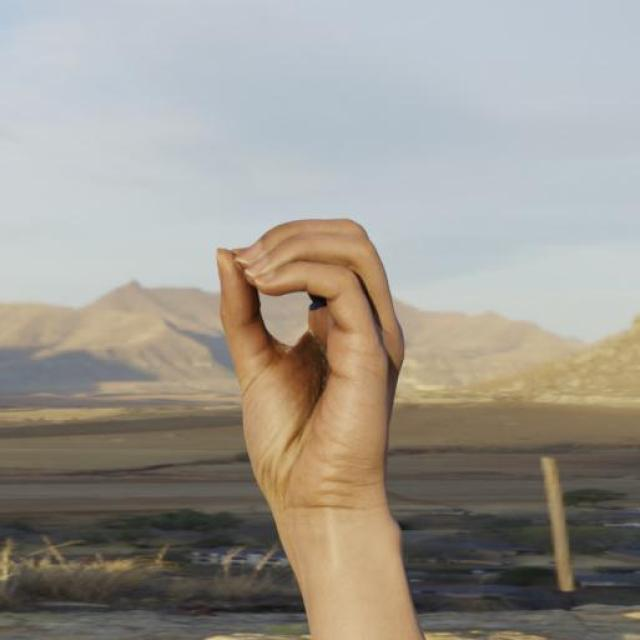O: (168, 133, 414, 552)
